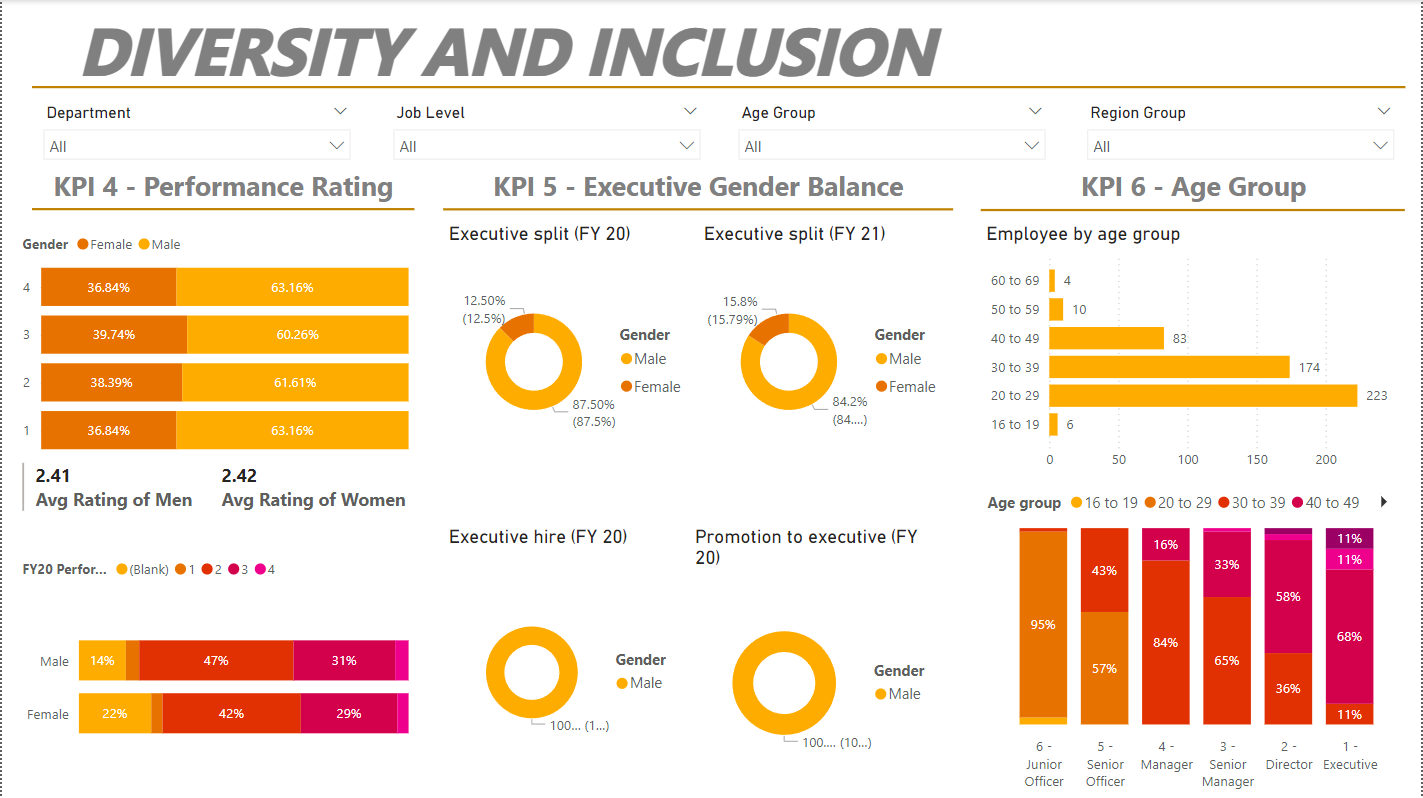

The page's visual inventory and layout, read from the dashboard file:
{"tool":"powerbi","page":{"name":"Page 2","canvas":[1280,720],"ordinal":1},"visuals":[{"type":"slicer","fields":{"Values":["Pharma Group AG.Department @01.07.2020"]},"box":[26.9,88,297.1,58.7],"z":0},{"type":"slicer","fields":{"Values":["Pharma Group AG.Region group: nationality 1"]},"box":[968.5,88,297.1,58.7],"z":1},{"type":"slicer","fields":{"Values":["Pharma Group AG.Job Level after FY20 promotions"]},"box":[342.4,88,297.1,58.7],"z":2},{"type":"slicer","fields":{"Values":["Pharma Group AG.Age group"]},"box":[654.2,88,297.1,58.7],"z":3},{"type":"textbox","box":[26.9,0,856,88],"z":4},{"type":"shape","box":[26.9,68.5,1238.7,19.6],"z":5},{"type":"hundredPercentStackedBarChart","fields":{"Category":["Pharma Group AG.FY20 Performance Rating"],"Y":["CountNonNull(Pharma Group AG.Employee ID)"],"Series":["Pharma Group AG.Gender"]},"box":[13.5,200.5,358.3,217.7],"z":6},{"type":"hundredPercentStackedBarChart","fields":{"Category":["Pharma Group AG.Gender"],"Y":["CountNonNull(Pharma Group AG.Employee ID)"],"Series":["Pharma Group AG.FY20 Performance Rating"]},"box":[13.5,494,358.3,217.7],"z":7},{"type":"donutChart","title":"Executive split (FY 20)","fields":{"Category":["Pharma Group AG.Gender"],"Y":["CountNonNull(Pharma Group AG.Employee ID)"]},"box":[397.4,200.5,229.9,232.3],"z":8},{"type":"donutChart","title":"Executive split (FY 21)","fields":{"Category":["Pharma Group AG.Gender"],"Y":["CountNonNull(Pharma Group AG.Employee ID)"]},"box":[627.3,200.5,229.9,232.3],"z":9},{"type":"donutChart","title":"Executive hire (FY 20)","fields":{"Category":["Pharma Group AG.Gender"],"Y":["CountNonNull(Pharma Group AG.Employee ID)"]},"box":[397.4,473.2,226.2,247],"z":10},{"type":"donutChart","title":"Promotion to executive (FY 20)","fields":{"Category":["Pharma Group AG.Gender"],"Y":["CountNonNull(Pharma Group AG.Employee ID)"]},"box":[620,473.2,237.2,247],"z":11},{"type":"barChart","title":"Employee by age group","fields":{"Category":["Pharma Group AG.Age group"],"Y":["CountNonNull(Pharma Group AG.Employee ID)"]},"box":[882.9,200.5,382.7,232.3],"z":12},{"type":"hundredPercentStackedColumnChart","fields":{"Series":["Pharma Group AG.Age group"],"Category":["Pharma Group AG.Job Level after FY21 promotions"],"Y":["CountNonNull(Pharma Group AG.Employee ID)"]},"box":[884.1,432.9,381.5,287.4],"z":13},{"type":"textbox","box":[26.9,146.7,344.8,53.8],"z":14},{"type":"textbox","box":[397.4,146.7,459.8,53.8],"z":15},{"type":"textbox","box":[884.1,146.7,381.5,53.8],"z":16},{"type":"shape","box":[26.9,177.3,344.8,23.2],"z":17},{"type":"shape","box":[397.4,174.9,459.8,28.1],"z":18},{"type":"shape","box":[882.9,174.9,382.7,29.3],"z":19},{"type":"multiRowCard","fields":{"Values":["Pharma Group AG.Avg Male Rating","Pharma Group AG.Avg Female Rating"]},"box":[13.5,412.1,357.1,81.9],"z":20}]}

Visuals, with their boxes in screenshot pixels (x1, y1, x2, y2), scaled from the page's 1280x720 canvas onto the 1423x798 screenshot:
slicer - Pharma Group AG.Department @01.07.2020: [left=30, top=98, right=360, bottom=163]
slicer - Pharma Group AG.Region group: nationality 1: [left=1077, top=98, right=1407, bottom=163]
slicer - Pharma Group AG.Job Level after FY20 promotions: [left=381, top=98, right=711, bottom=163]
slicer - Pharma Group AG.Age group: [left=727, top=98, right=1058, bottom=163]
textbox: [left=30, top=0, right=982, bottom=98]
shape: [left=30, top=76, right=1407, bottom=98]
hundredPercentStackedBarChart - Pharma Group AG.FY20 Performance Rating x CountNonNull(Pharma Group AG.Employee ID): [left=15, top=222, right=413, bottom=464]
hundredPercentStackedBarChart - Pharma Group AG.Gender x CountNonNull(Pharma Group AG.Employee ID): [left=15, top=548, right=413, bottom=789]
"Executive split (FY 20)" donutChart: [left=442, top=222, right=697, bottom=480]
"Executive split (FY 21)" donutChart: [left=697, top=222, right=953, bottom=480]
"Executive hire (FY 20)" donutChart: [left=442, top=524, right=693, bottom=797]
"Promotion to executive (FY 20)" donutChart: [left=689, top=524, right=953, bottom=797]
"Employee by age group" barChart: [left=982, top=222, right=1407, bottom=480]
hundredPercentStackedColumnChart - Pharma Group AG.Age group x Pharma Group AG.Job Level after FY21 promotions: [left=983, top=480, right=1407, bottom=797]
textbox: [left=30, top=163, right=413, bottom=222]
textbox: [left=442, top=163, right=953, bottom=222]
textbox: [left=983, top=163, right=1407, bottom=222]
shape: [left=30, top=197, right=413, bottom=222]
shape: [left=442, top=194, right=953, bottom=225]
shape: [left=982, top=194, right=1407, bottom=226]
multiRowCard - Pharma Group AG.Avg Male Rating x Pharma Group AG.Avg Female Rating: [left=15, top=457, right=412, bottom=548]
